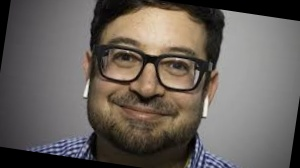earphone: (198, 69, 220, 120), (77, 49, 96, 99)
